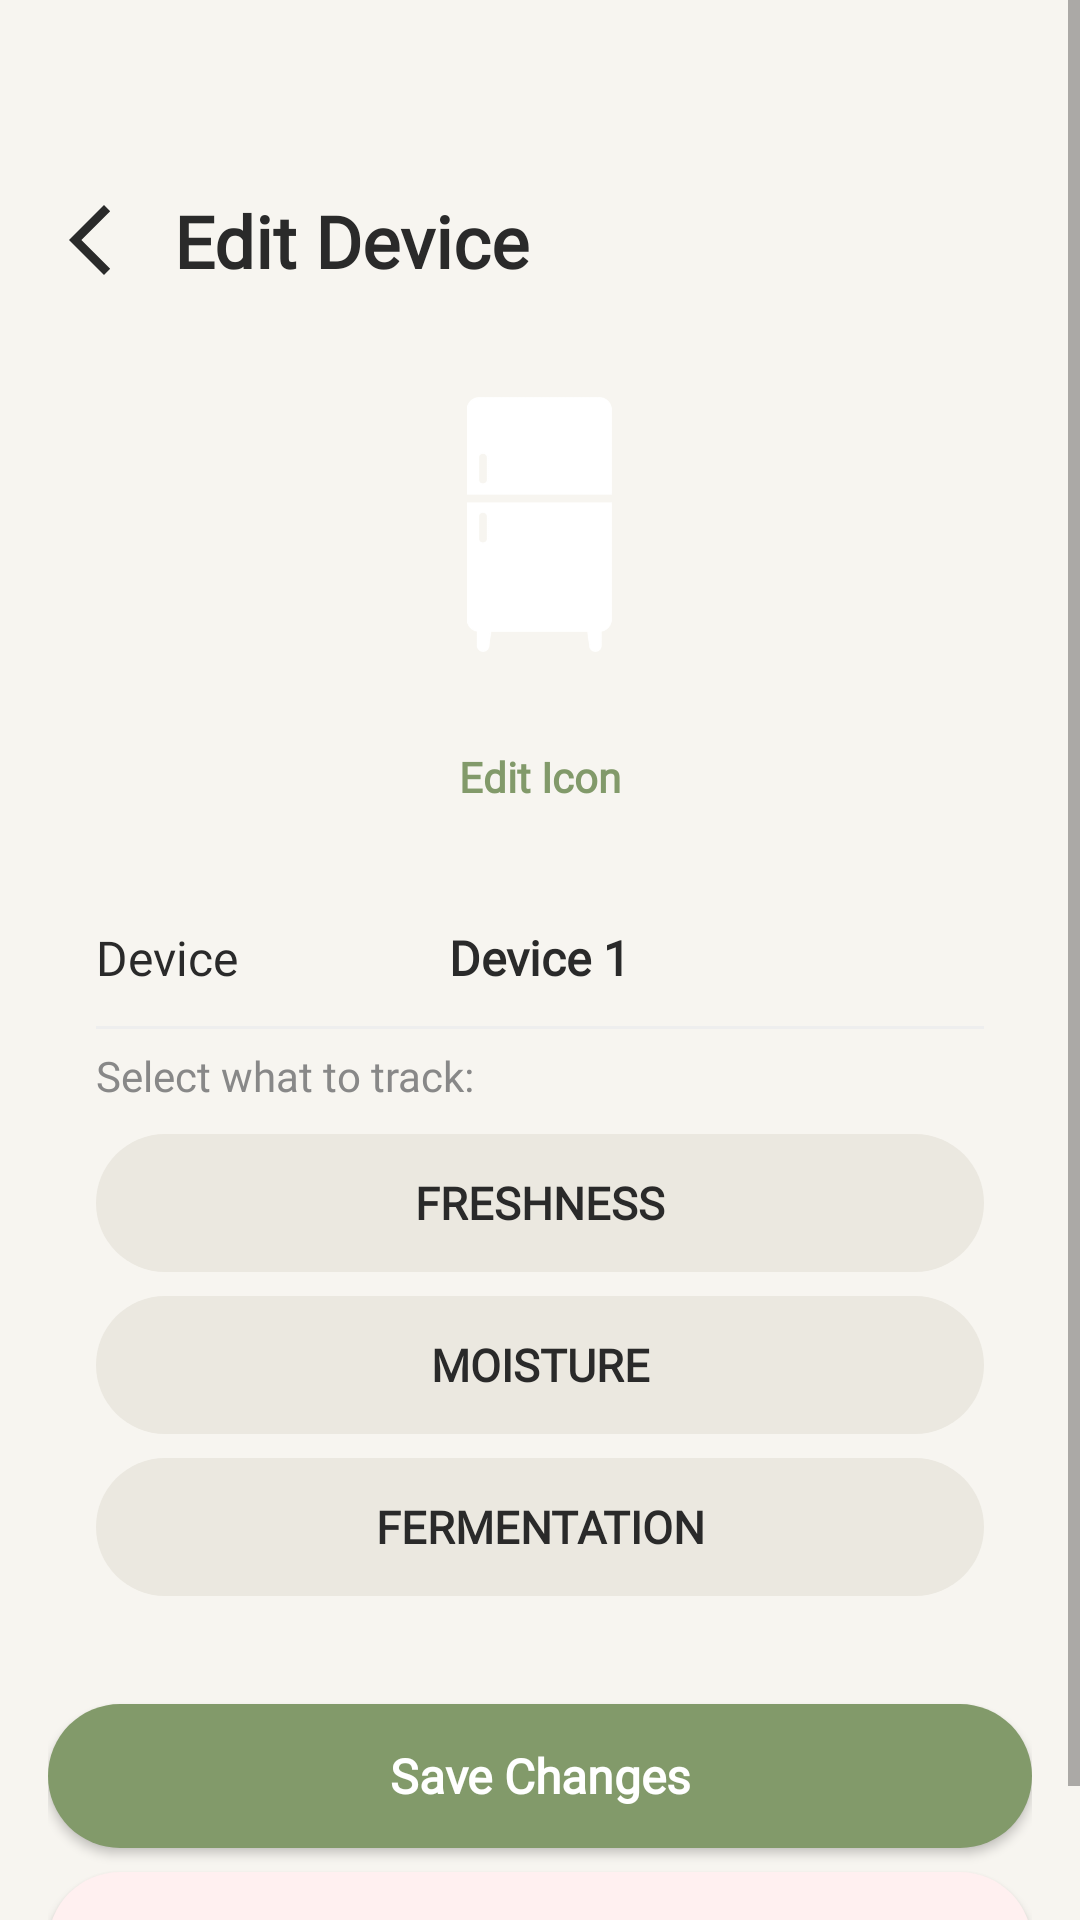

Icons on this 1080 x 1920 Android screen, each with its box as [x1,y1,x2,y2]:
Back: [69,205,110,275]
